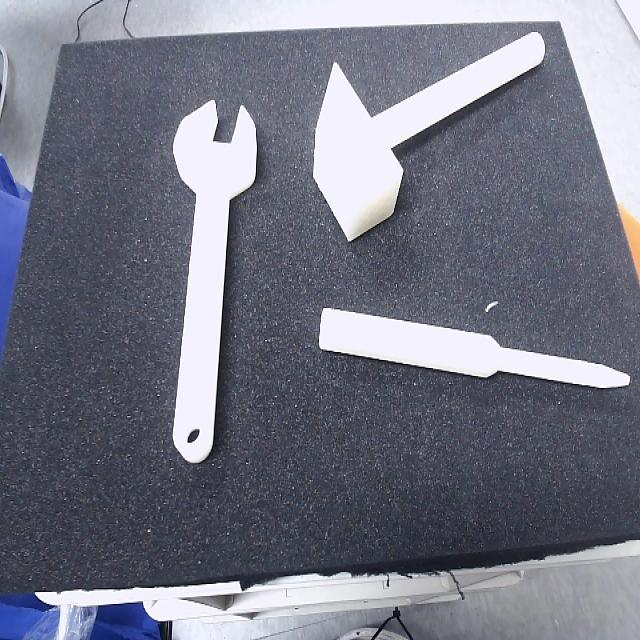Driver: (318, 309, 632, 392)
Hammer: (314, 32, 546, 243)
Spanner: (171, 100, 260, 467)
